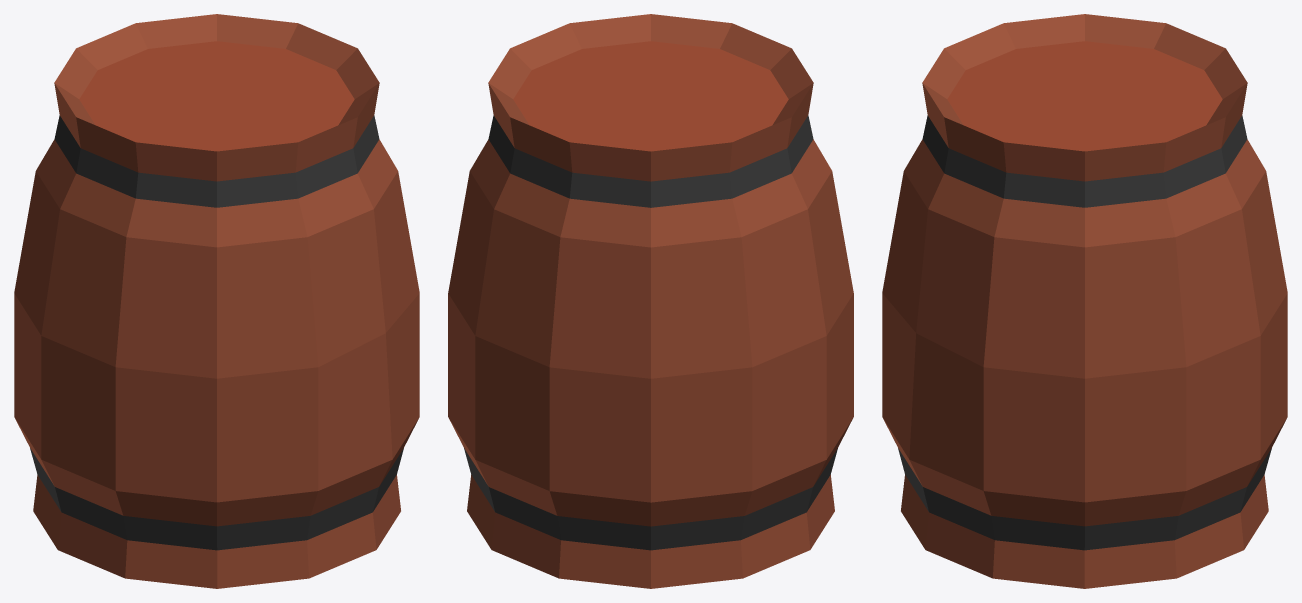
The model's file is LowPolyBarrel.fbx.
3 views of the same model, side by side, from view 1: azimuth 30°, elevation 25°; view 2: azimuth 150°, elevation 25°; view 3: azimuth 270°, elevation 25° (orthographic).
Visible parts, largest first — view 1: BarrelBody, BarrelTop, BarrelRing, BarrelRing2; view 2: BarrelBody, BarrelTop, BarrelRing, BarrelRing2; view 3: BarrelBody, BarrelTop, BarrelRing, BarrelRing2.
Part boxes in pixels (box(x1,y1,x2,y2)): BarrelBody: box(14, 14, 419, 588); BarrelTop: box(79, 41, 354, 151); BarrelRing: box(54, 115, 379, 207); BarrelRing2: box(30, 448, 403, 550); BarrelBody: box(448, 14, 853, 588); BarrelTop: box(513, 41, 788, 151); BarrelRing: box(488, 115, 813, 207); BarrelRing2: box(464, 448, 837, 550); BarrelBody: box(882, 14, 1287, 588); BarrelTop: box(947, 41, 1222, 151); BarrelRing: box(922, 115, 1247, 207); BarrelRing2: box(898, 448, 1271, 550).
Size of the model in its own units: 200 by 233 by 200.
